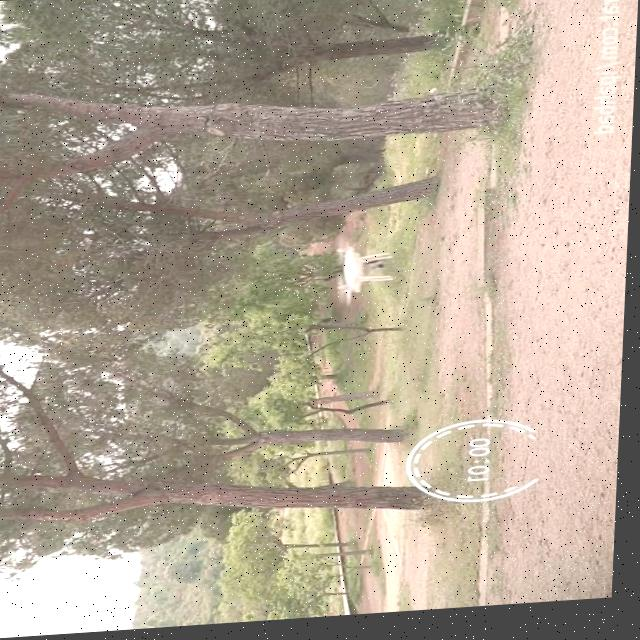drone: (333, 239, 402, 311)
